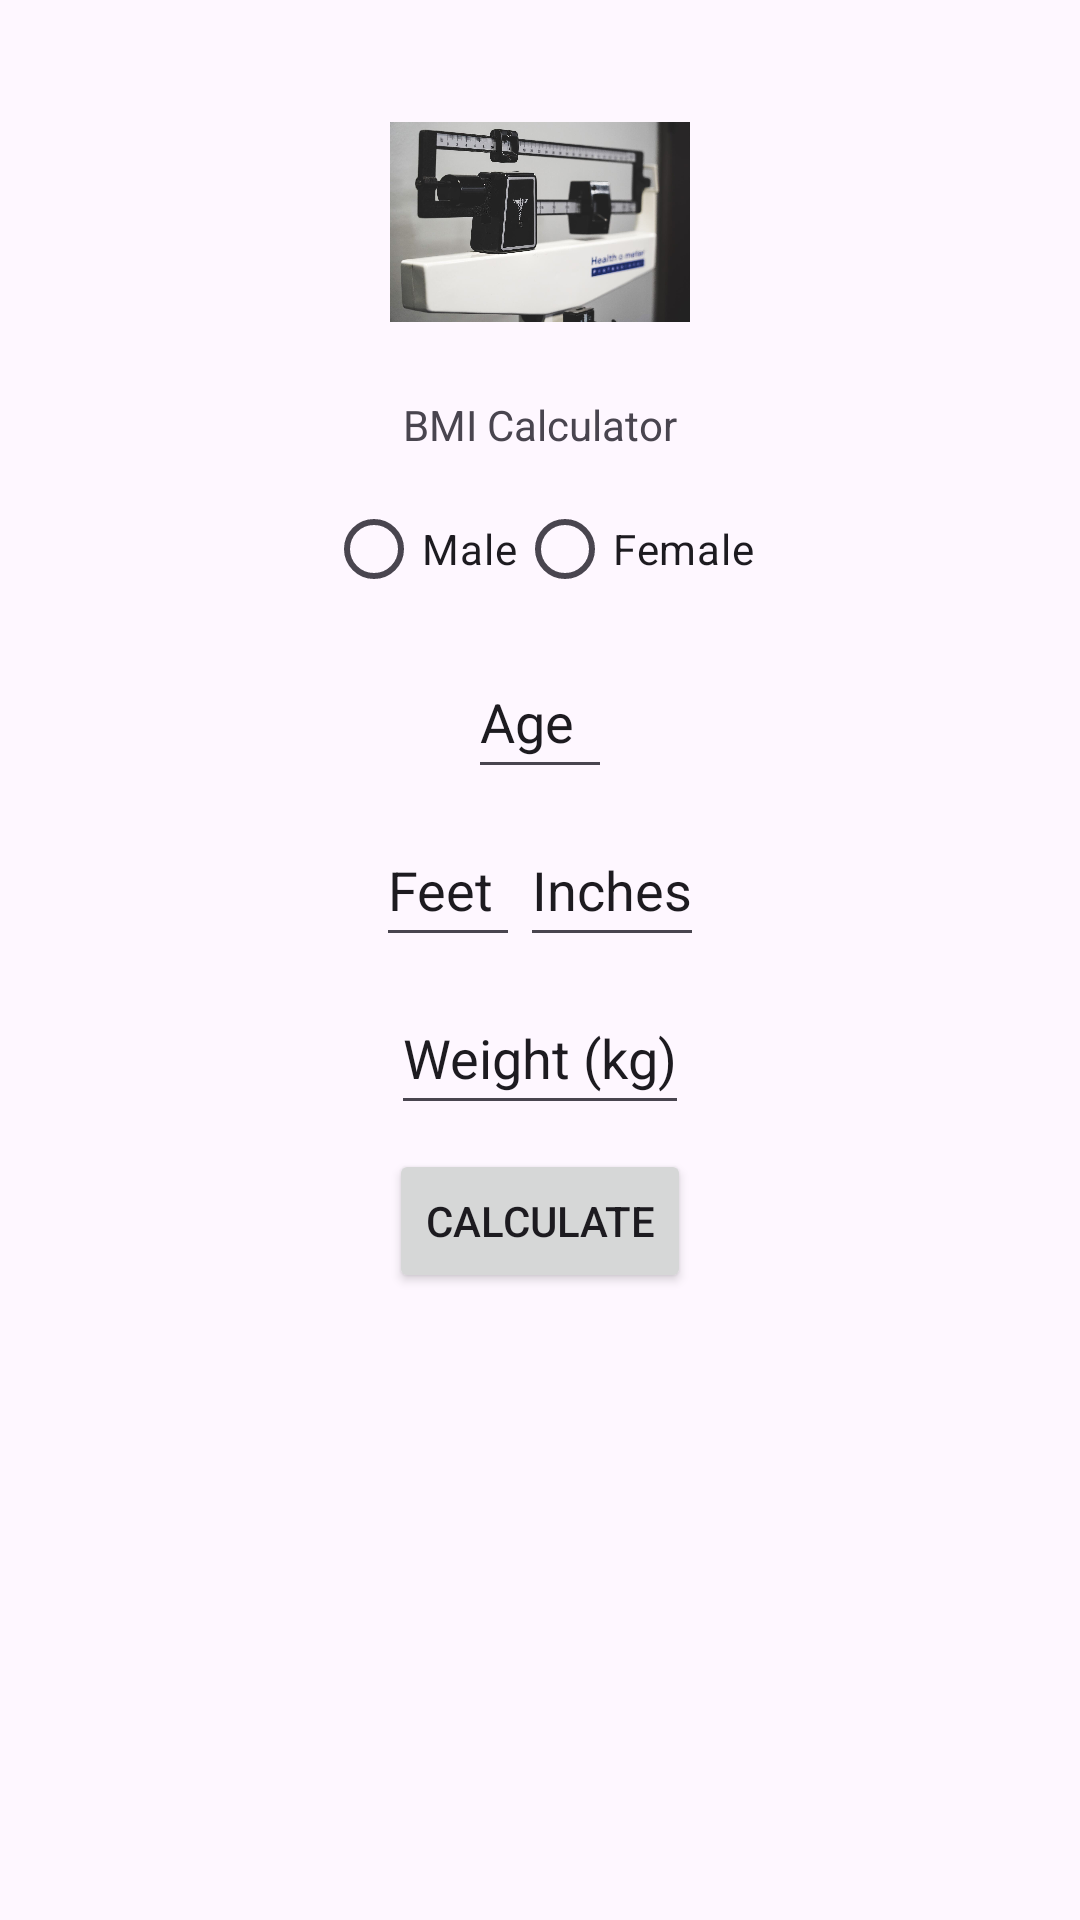

Screen size 1080×1920. Icon name, then its center in pixels as point (x, y):
weight scale image: point (540, 222)
